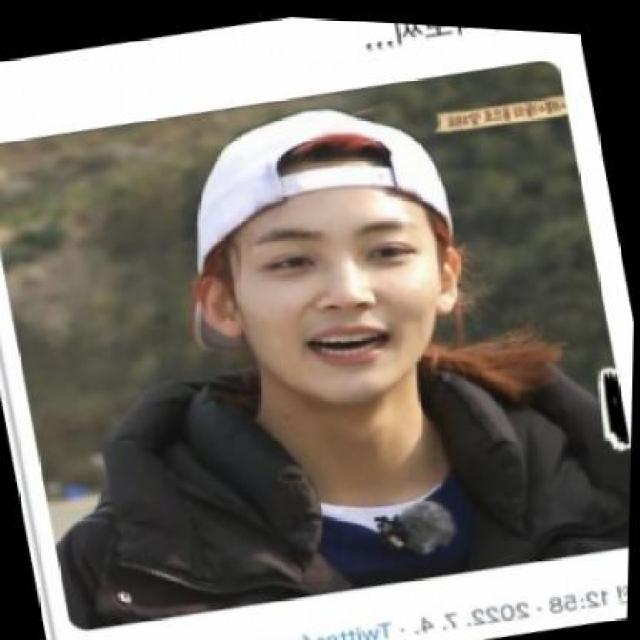hat: (196, 104, 452, 270)
